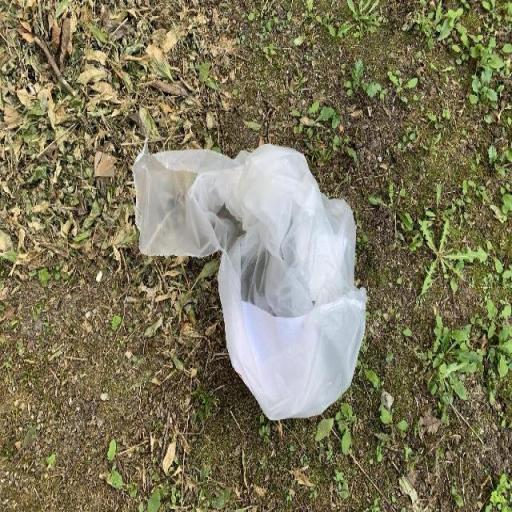plastic-bag: (128, 132, 370, 427)
